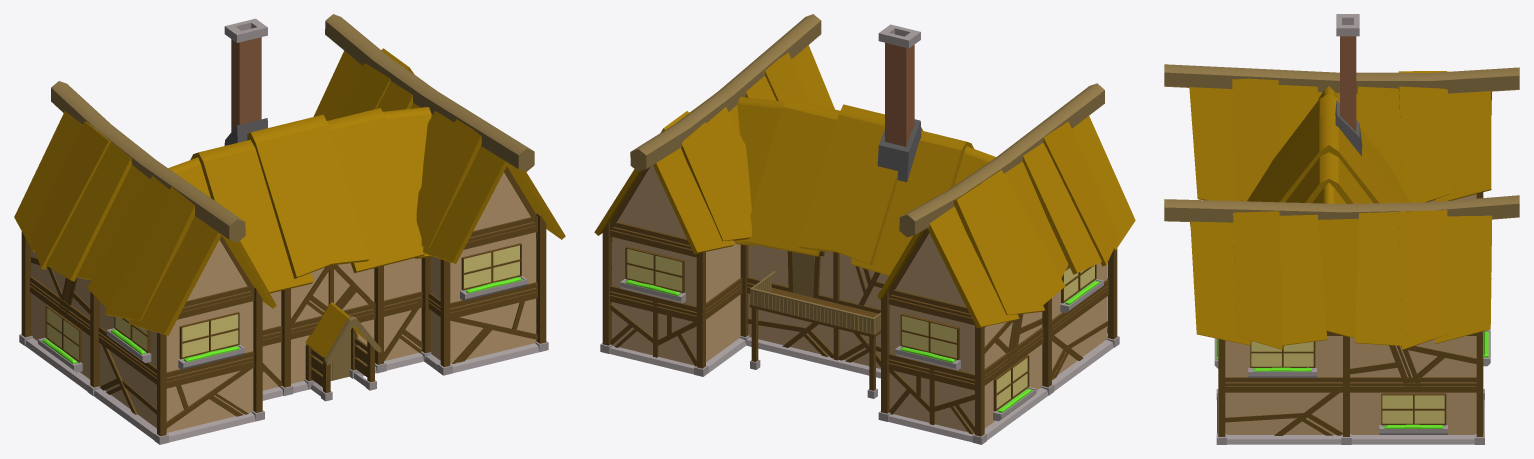
File: mesh_The_Inn.fbx
The picture shows the model from 3 angles, left to right: view 1: azimuth 30°, elevation 25°; view 2: azimuth 150°, elevation 25°; view 3: azimuth 270°, elevation 25°; orthographic projection. The views are drawn at different scales.
Parts seen in each view (by area): view 1: The_Inn; view 2: The_Inn; view 3: The_Inn.
Boxes of the visible parts, box(x1,y1,x2,y2) form: The_Inn: box(14, 14, 565, 444); The_Inn: box(594, 14, 1135, 444); The_Inn: box(1164, 14, 1519, 444).
Bounding box in the file's own units: 2115 × 1543 × 1576.
Materials: 1 (1 with a texture image).
